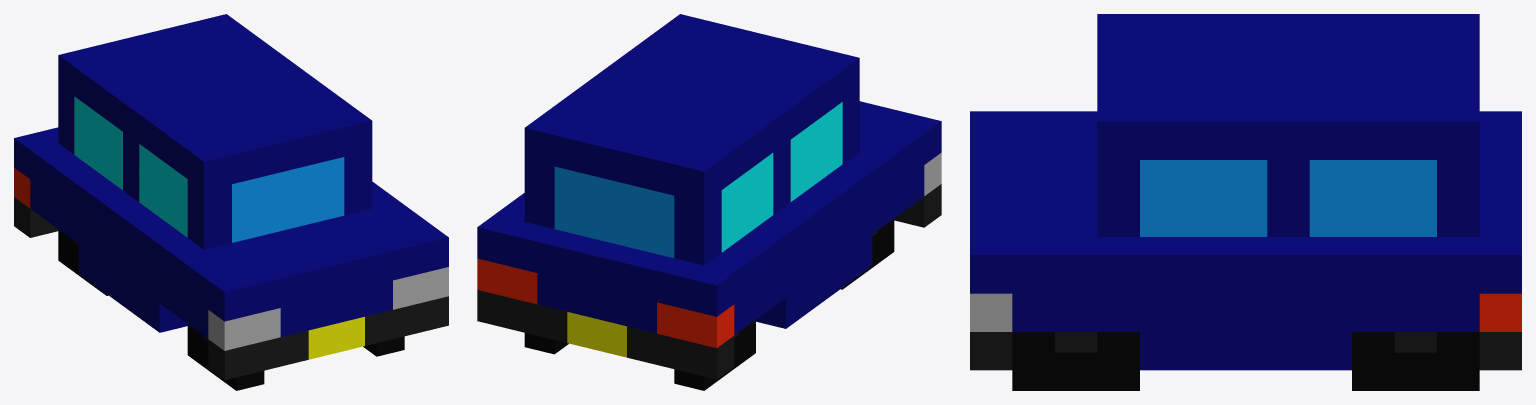
Rendered from Car_bule_obj.obj.
3 renders of one model, left to right at view 1: azimuth 30°, elevation 25°; view 2: azimuth 150°, elevation 25°; view 3: azimuth 270°, elevation 25°, orthographic. The views are drawn at different scales.
Visible parts, largest first — view 1: 立方体.013; view 2: 立方体.013; view 3: 立方体.013.
Part boxes in pixels (<box>): 立方体.013: <box>14,14,448,390</box>; 立方体.013: <box>477,14,941,390</box>; 立方体.013: <box>970,14,1521,390</box>.
Size of the model in its own units: 8 by 7 by 13.
